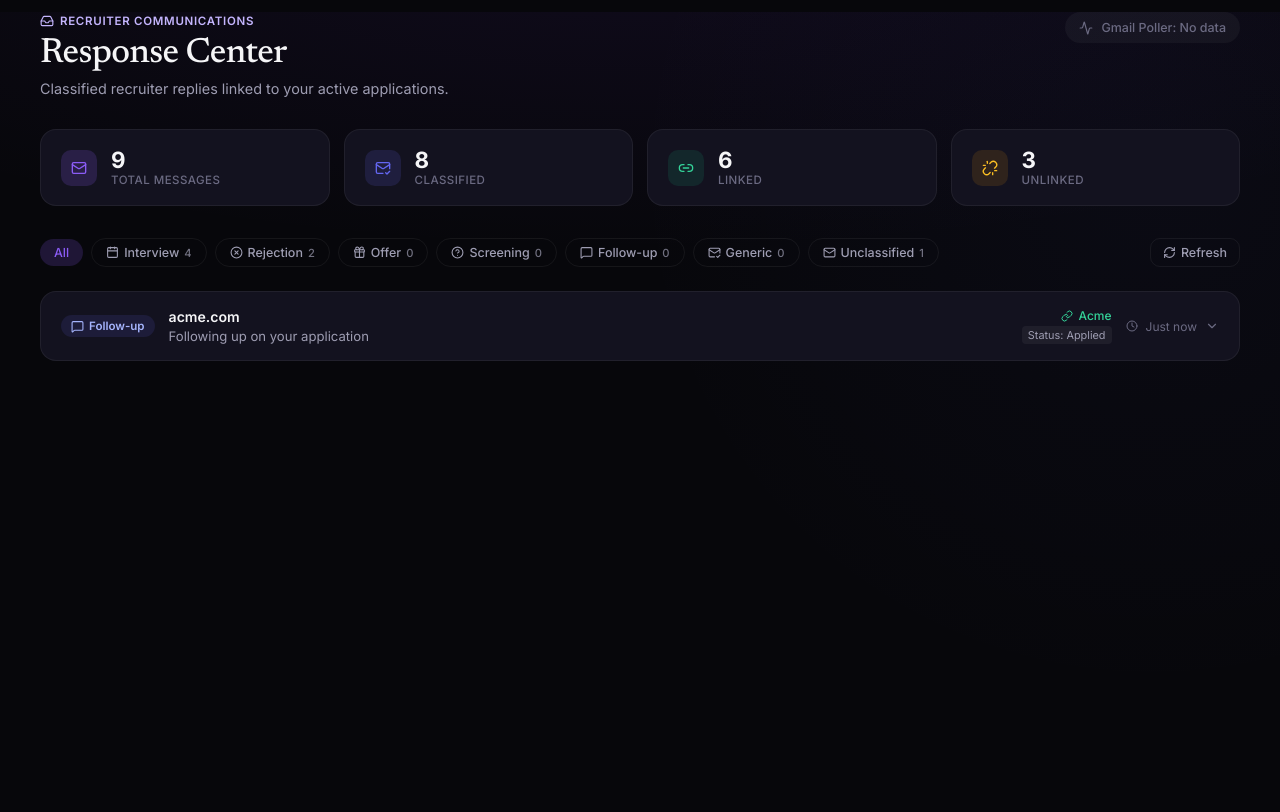
Test: ResponseCenterPlaceholder › offers "Draft reply with Gemini" (no textarea) for reply-bearing messages without a suggestion
Click the text "Following up on your application": (269, 336) left=168, top=328, right=369, bottom=344
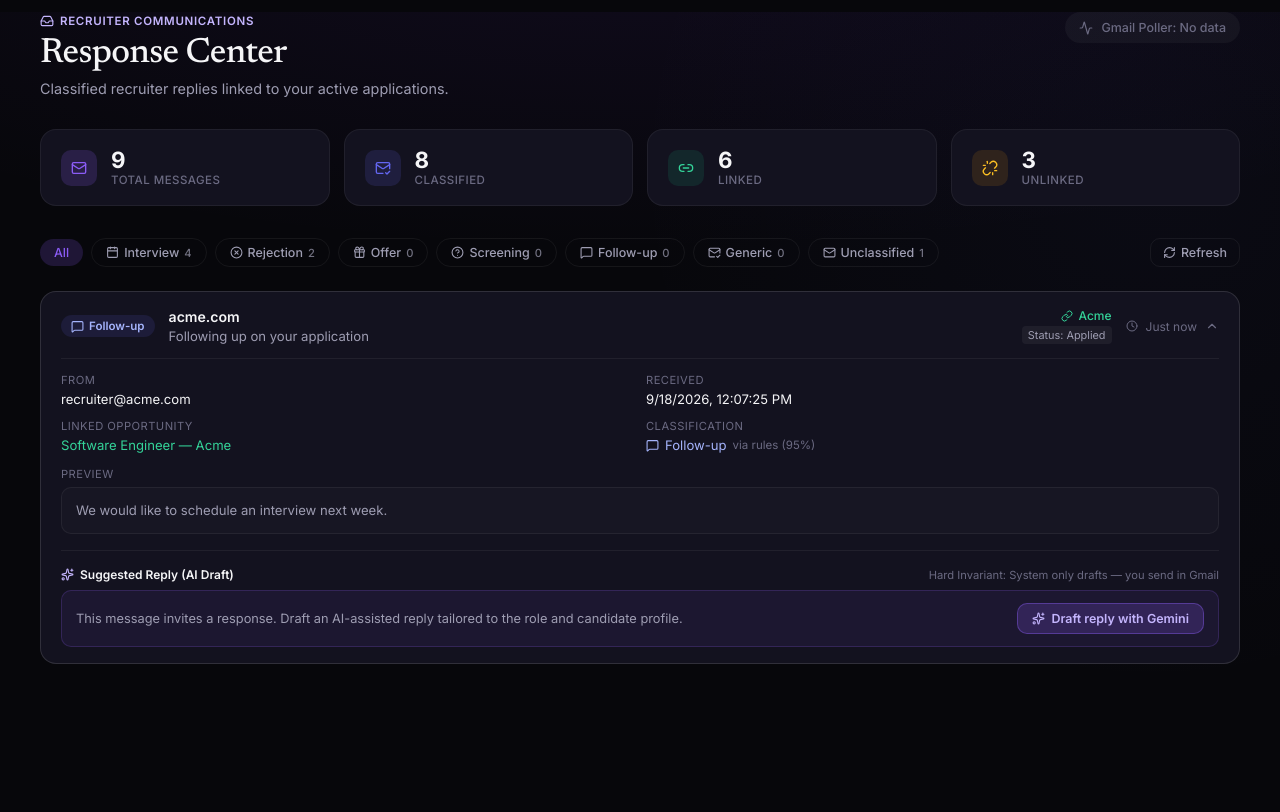
Result: the button "Draft reply with Gemini" is shown at left=1017, top=603, right=1204, bottom=634
